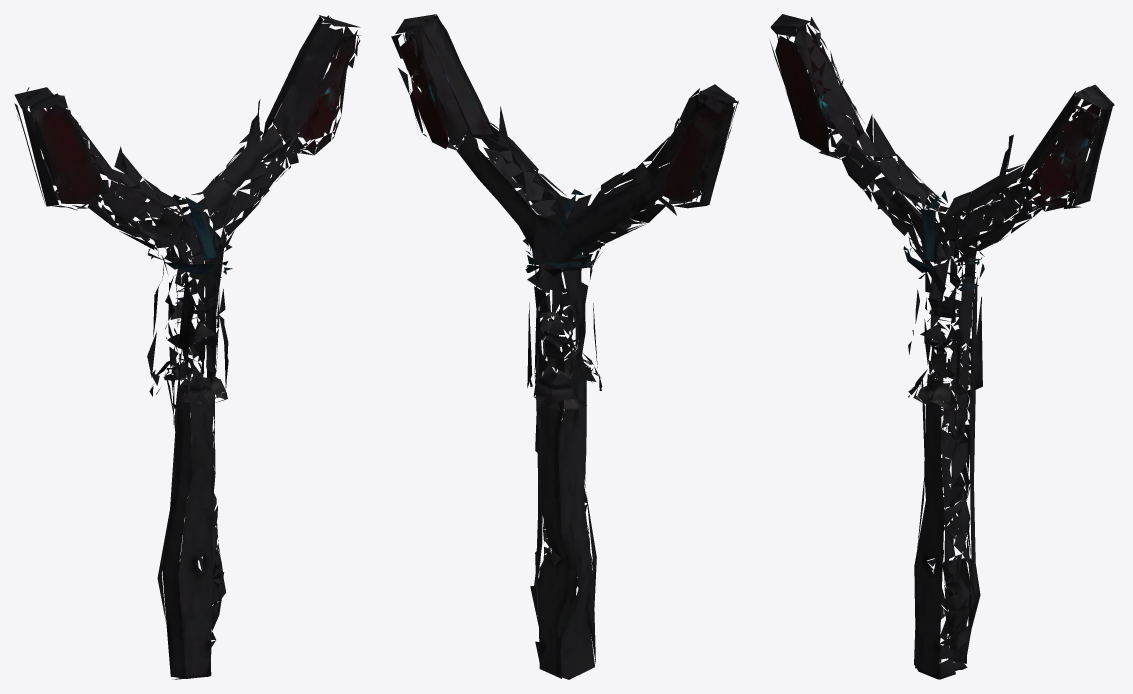
The model's file is prop-route-fork-marker-lod2.glb.
3 views of the same model, side by side, from view 1: azimuth 30°, elevation 25°; view 2: azimuth 150°, elevation 25°; view 3: azimuth 330°, elevation 25° (orthographic).
Parts seen in each view (by area): view 1: xenovoya_runtime_asset; view 2: xenovoya_runtime_asset; view 3: xenovoya_runtime_asset.
Part boxes in pixels (left/top/right/bottom): xenovoya_runtime_asset: left=14, top=15, right=360, bottom=679; xenovoya_runtime_asset: left=391, top=14, right=738, bottom=679; xenovoya_runtime_asset: left=770, top=14, right=1114, bottom=679.
Size of the model in its own units: 0.3232 by 0.5687 by 0.0714.
Materials: 1 (1 with a texture image).
